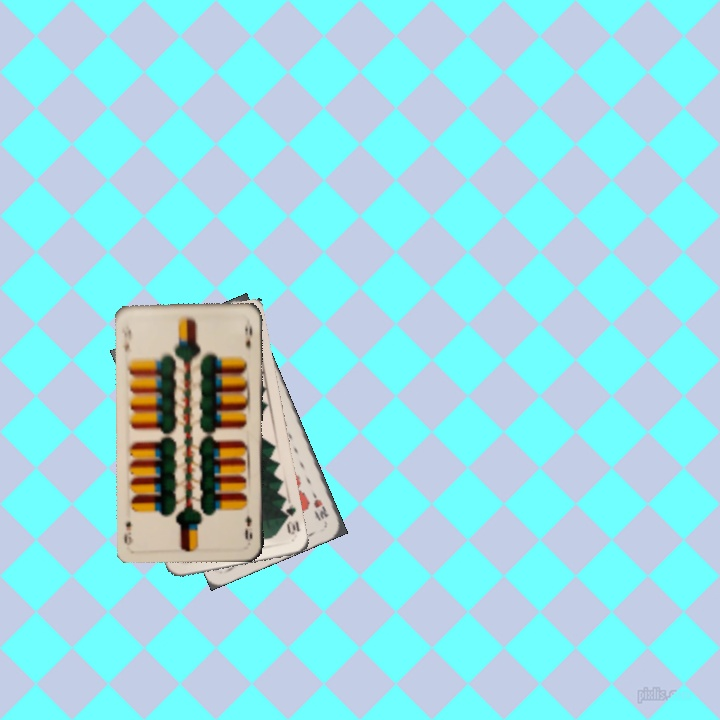E9: (119, 321, 134, 355), (241, 511, 255, 542)
G10: (278, 498, 302, 537)
H10: (308, 488, 332, 523)
